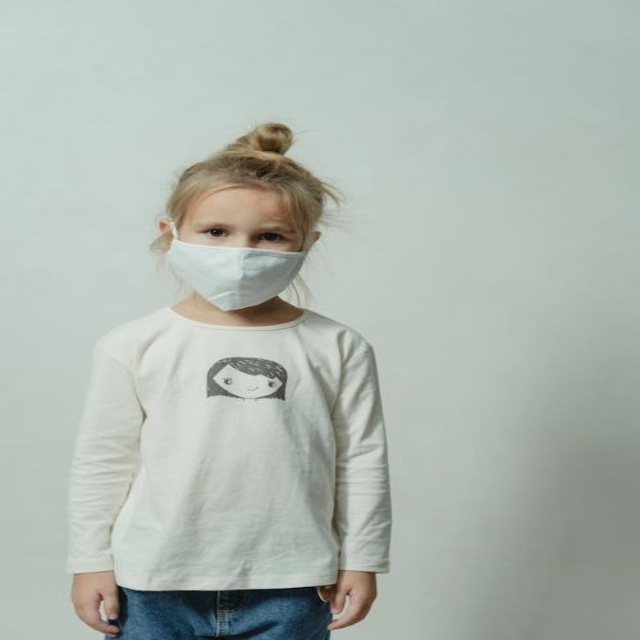Mascara: (166, 222, 308, 311)
Sin_gafas: (195, 217, 294, 247)
Sin_guantes: (59, 565, 134, 634), (324, 566, 392, 635)
